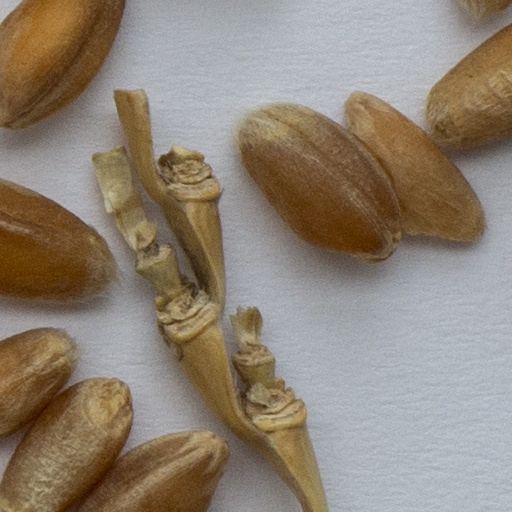Peel-poly: (98, 93, 326, 511)
